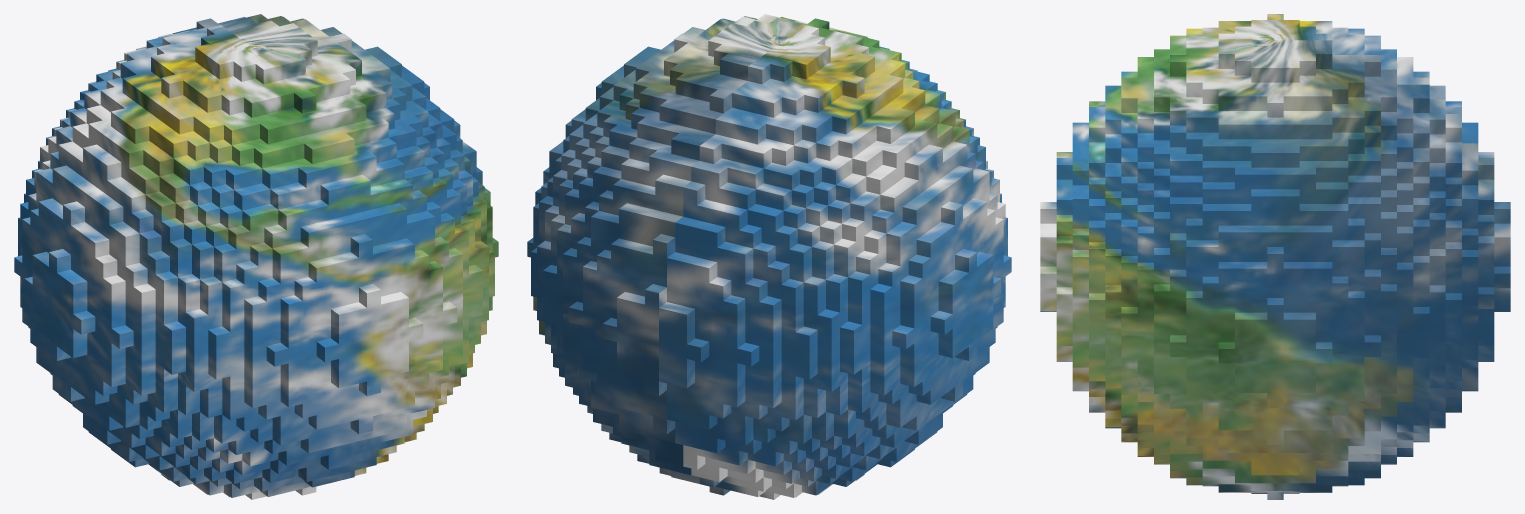
File: 03_Earth.fbx
The picture shows the model from 3 angles, left to right: view 1: azimuth 30°, elevation 25°; view 2: azimuth 150°, elevation 25°; view 3: azimuth 270°, elevation 25°; orthographic projection.
Parts seen in each view (by area): view 1: 03_Earth; view 2: 03_Earth; view 3: 03_Earth.
Boxes of the visible parts, x1,y1,x2,y2 form: 03_Earth: (14,14,498,499); 03_Earth: (527,14,1011,499); 03_Earth: (1040,14,1510,499).
Bounding box in the file's own units: 101 × 101 × 101.
Materials: 1 (1 with a texture image).
